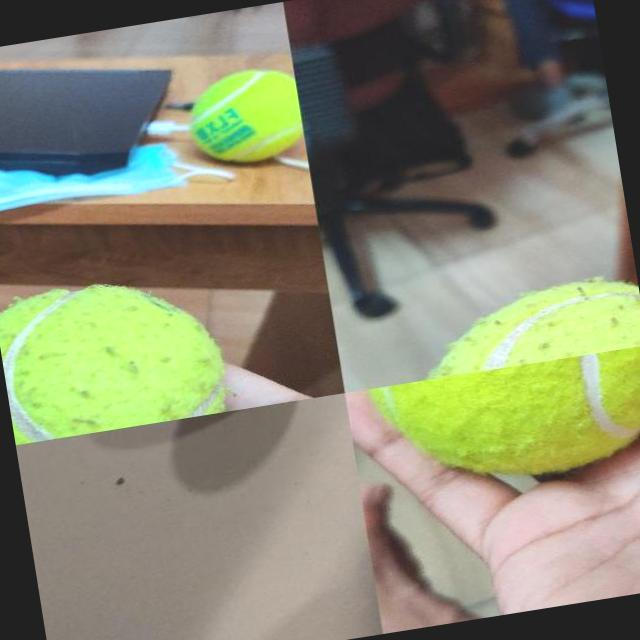Tennis Ball: (0, 265, 232, 444), (367, 345, 640, 497), (403, 271, 640, 381), (184, 63, 308, 172)
